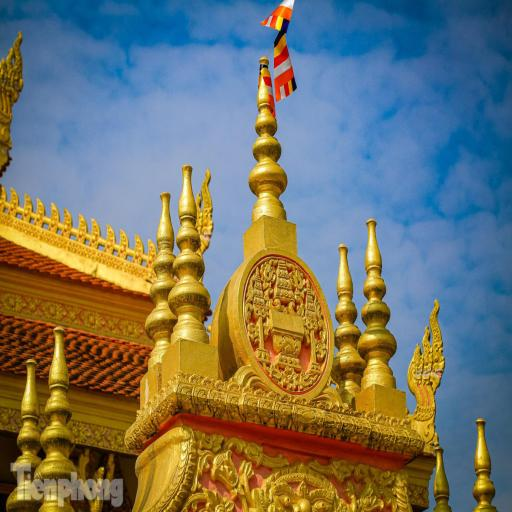hoa: (40, 297, 68, 321), (80, 309, 106, 331), (106, 428, 128, 453), (68, 422, 90, 446), (119, 320, 143, 339), (4, 291, 24, 313), (283, 367, 300, 392)
la: (410, 298, 442, 423), (262, 475, 337, 512), (184, 484, 232, 512), (212, 450, 243, 488), (359, 476, 381, 512)
lua: (89, 216, 101, 250), (22, 190, 32, 223), (62, 205, 72, 238), (8, 185, 18, 217), (105, 222, 115, 254), (48, 201, 58, 232), (118, 228, 128, 259), (76, 212, 86, 242), (147, 237, 157, 267), (133, 233, 142, 264), (35, 198, 44, 228), (0, 183, 7, 211)
ran: (196, 174, 213, 254)
